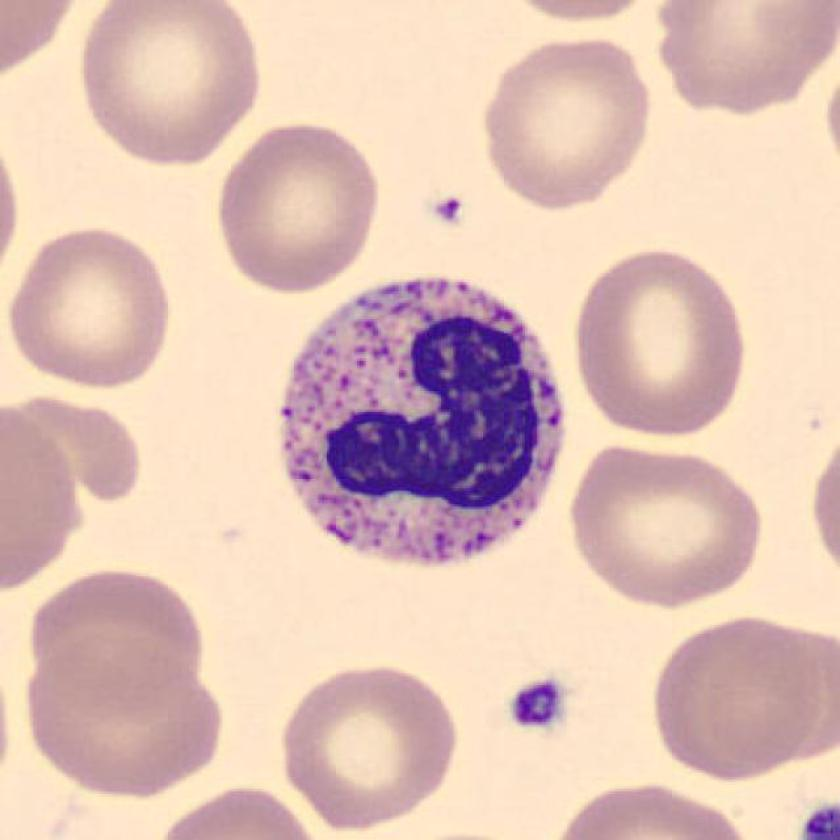neutrophil: (273, 275, 568, 567)
